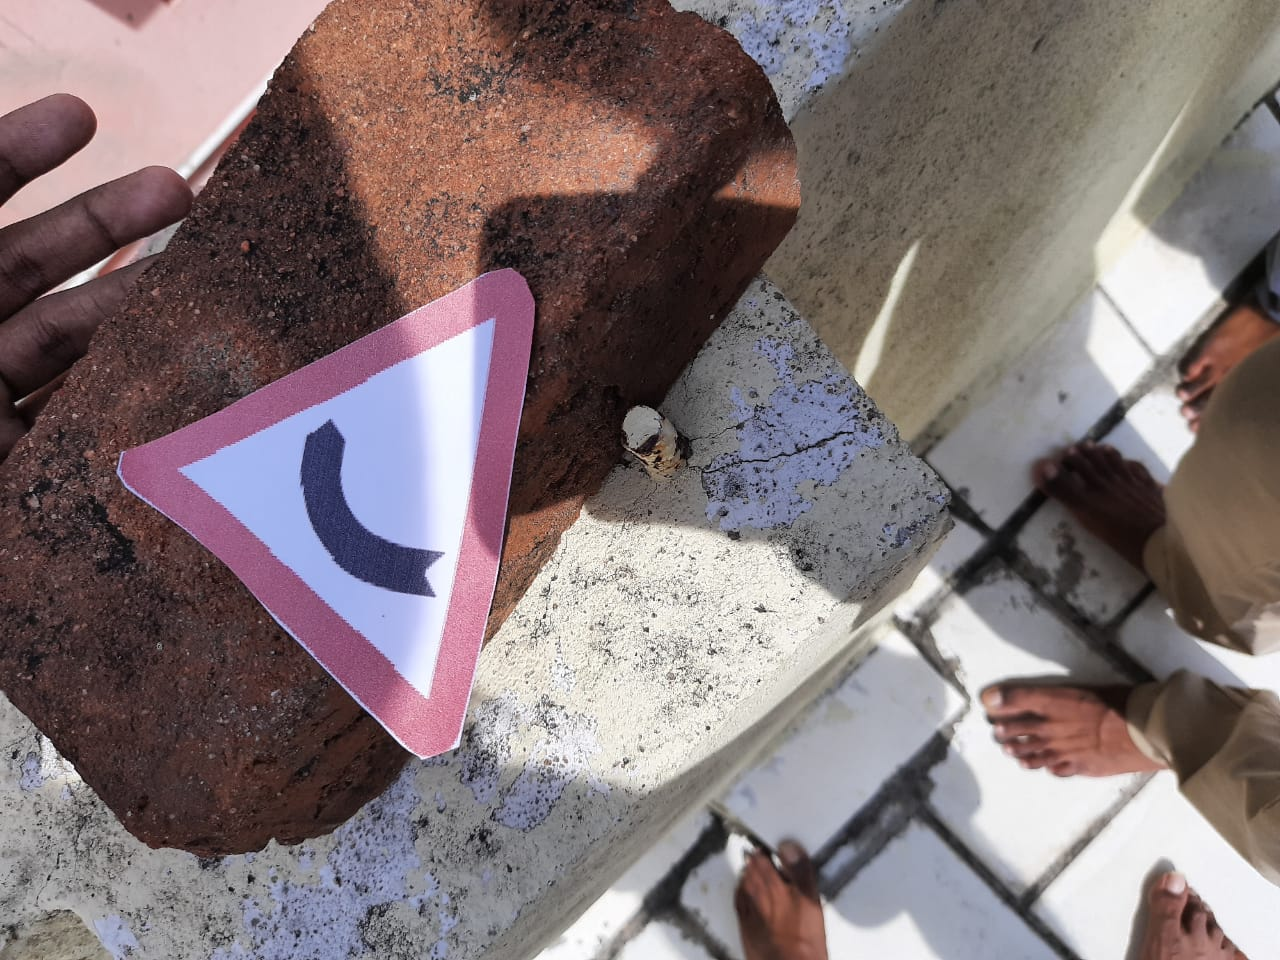RIGHT CURVE: (110, 235, 541, 773)
